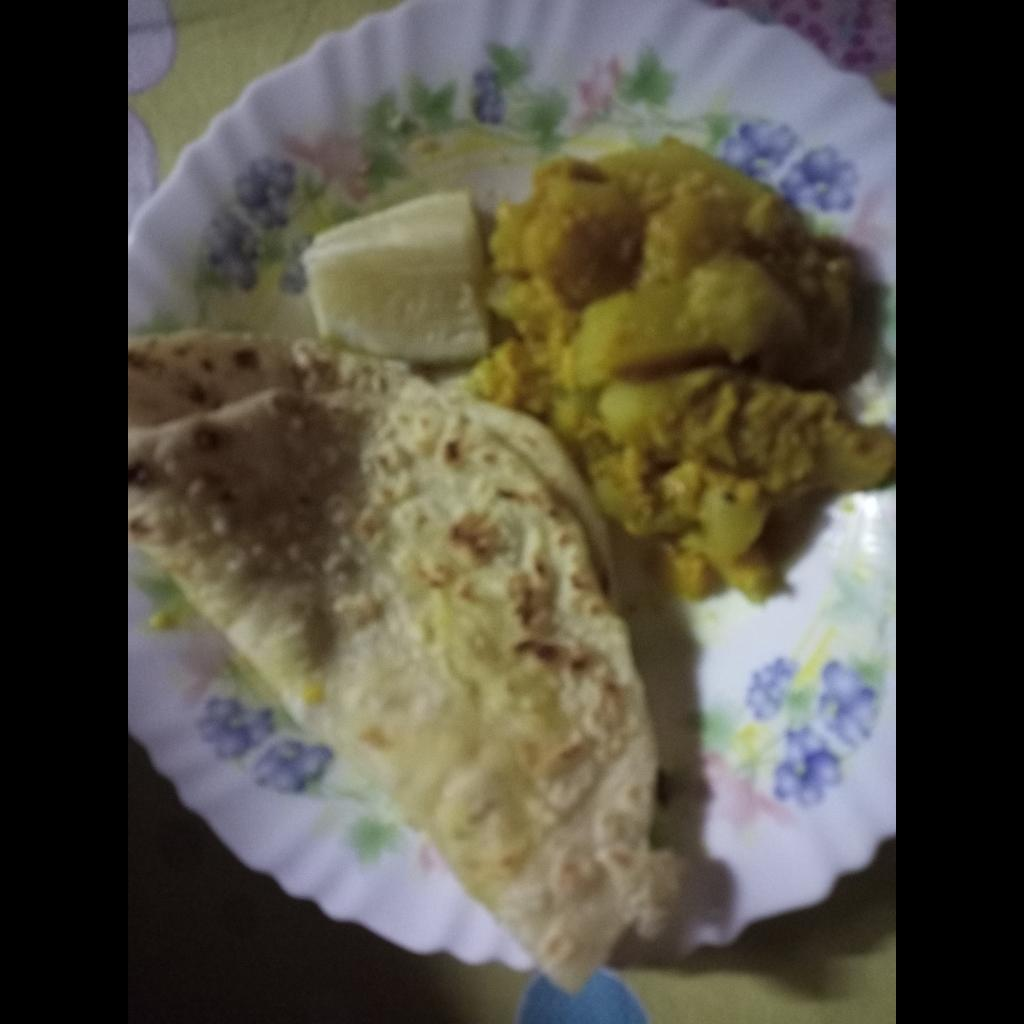lau: (472, 133, 896, 604)
lemon: (301, 191, 490, 363)
ruti: (130, 328, 682, 1000)
